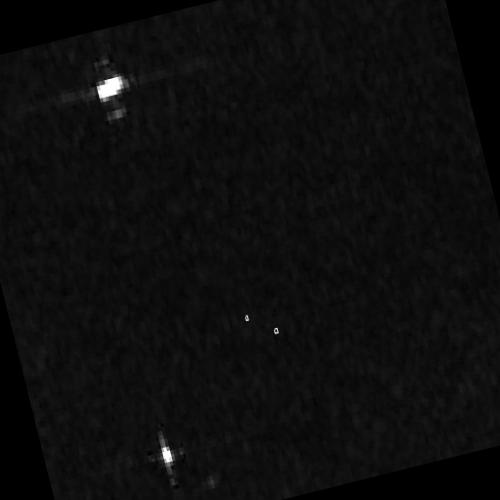ship: (95, 73, 126, 101), (160, 444, 176, 466)
